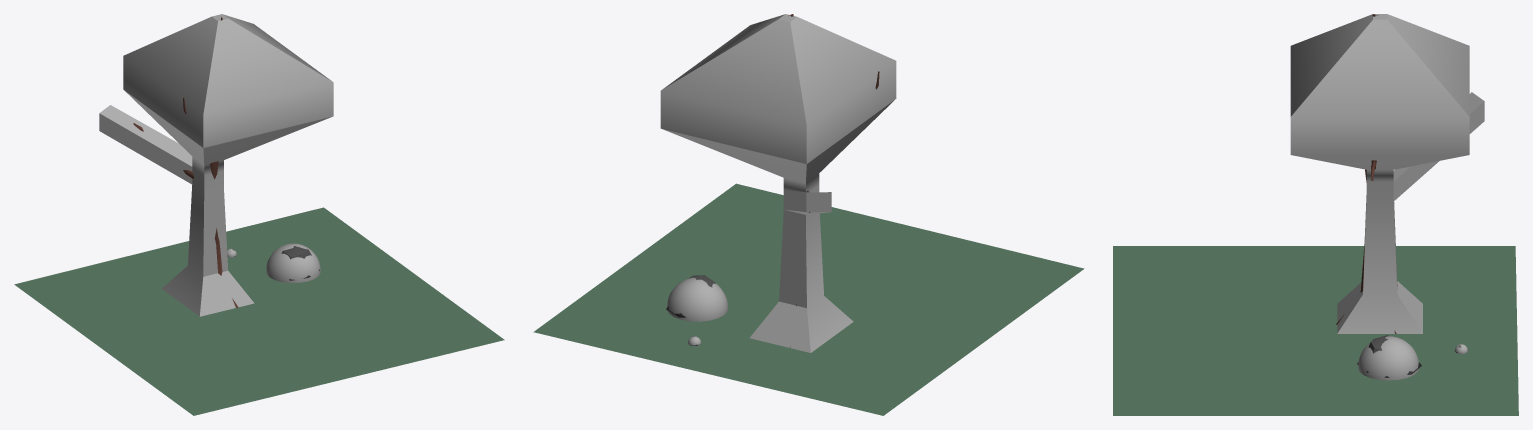
Rendered from pussel1.fbx.
3 renders of one model, left to right at view 1: azimuth 30°, elevation 25°; view 2: azimuth 150°, elevation 25°; view 3: azimuth 270°, elevation 25°, orthographic. The views are drawn at different scales.
Visible parts, largest first — view 1: ground, treecollide, stone1collide, tree; view 2: ground, treecollide, stone1collide; view 3: ground, treecollide, stone1collide.
Part boxes in pixels (box(x1,y1,x2,y2)): ground: box(14, 207, 504, 415); treecollide: box(99, 14, 333, 316); stone1collide: box(266, 243, 320, 282); tree: box(133, 17, 238, 307); ground: box(533, 183, 1084, 415); treecollide: box(660, 14, 896, 352); stone1collide: box(667, 277, 727, 321); ground: box(1113, 246, 1518, 415); treecollide: box(1290, 14, 1484, 333); stone1collide: box(1358, 336, 1418, 380).
Bounding box in the file's own units: 25 × 23.13 × 25.21.
